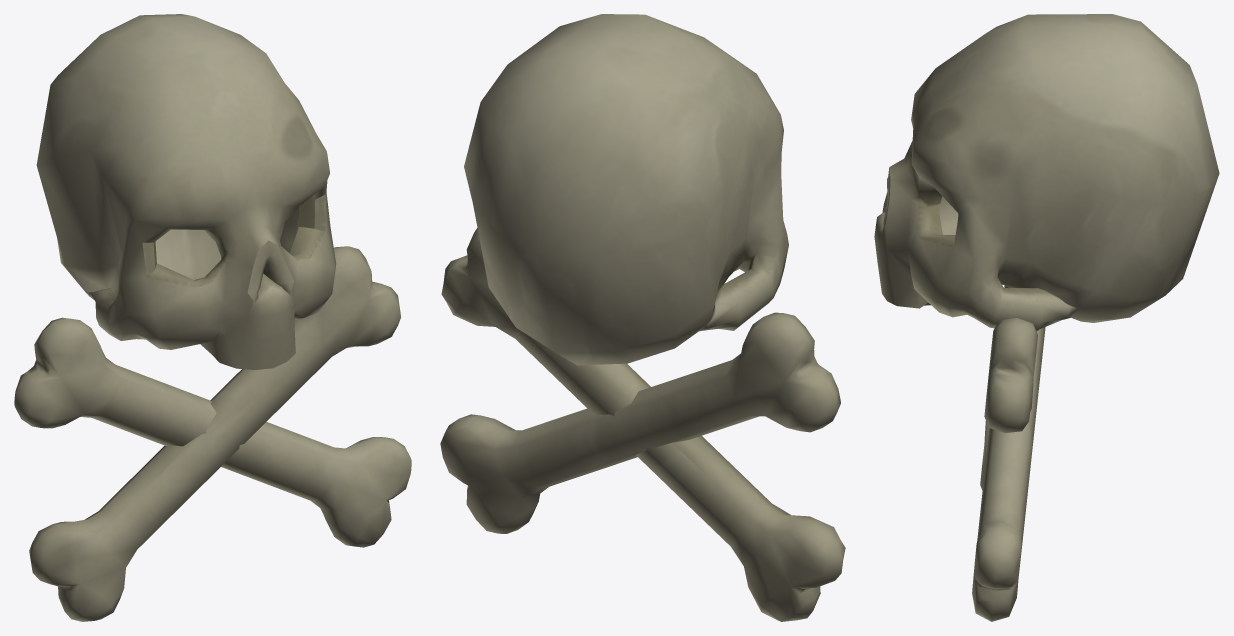
The model's file is skull_and_cross_bone.FBX.
The picture shows the model from 3 angles, left to right: view 1: azimuth 30°, elevation 25°; view 2: azimuth 150°, elevation 25°; view 3: azimuth 270°, elevation 25°; orthographic projection. The views are drawn at different scales.
Visible parts, largest first — view 1: skull_and_cross_bone; view 2: skull_and_cross_bone; view 3: skull_and_cross_bone.
Boxes of the visible parts, x1,y1,x2,y2 form: skull_and_cross_bone: [14, 14, 411, 621]; skull_and_cross_bone: [440, 14, 845, 621]; skull_and_cross_bone: [874, 14, 1219, 621].
Bounding box in the file's own units: 278 × 373 × 219.
